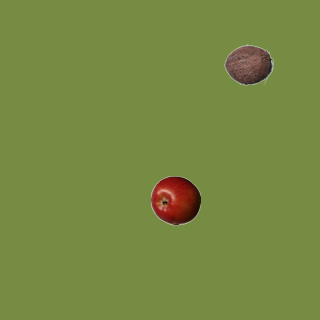Apple Braeburn: (150, 175, 200, 225)
Cocos: (223, 39, 273, 89)
